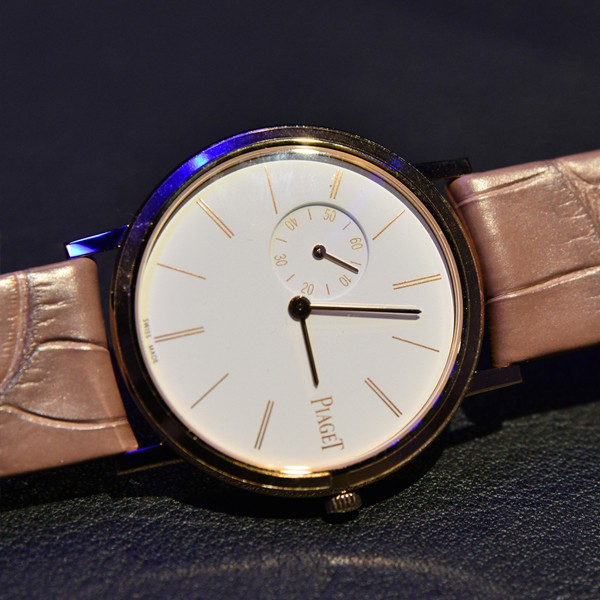clock: (135, 143, 464, 481)
